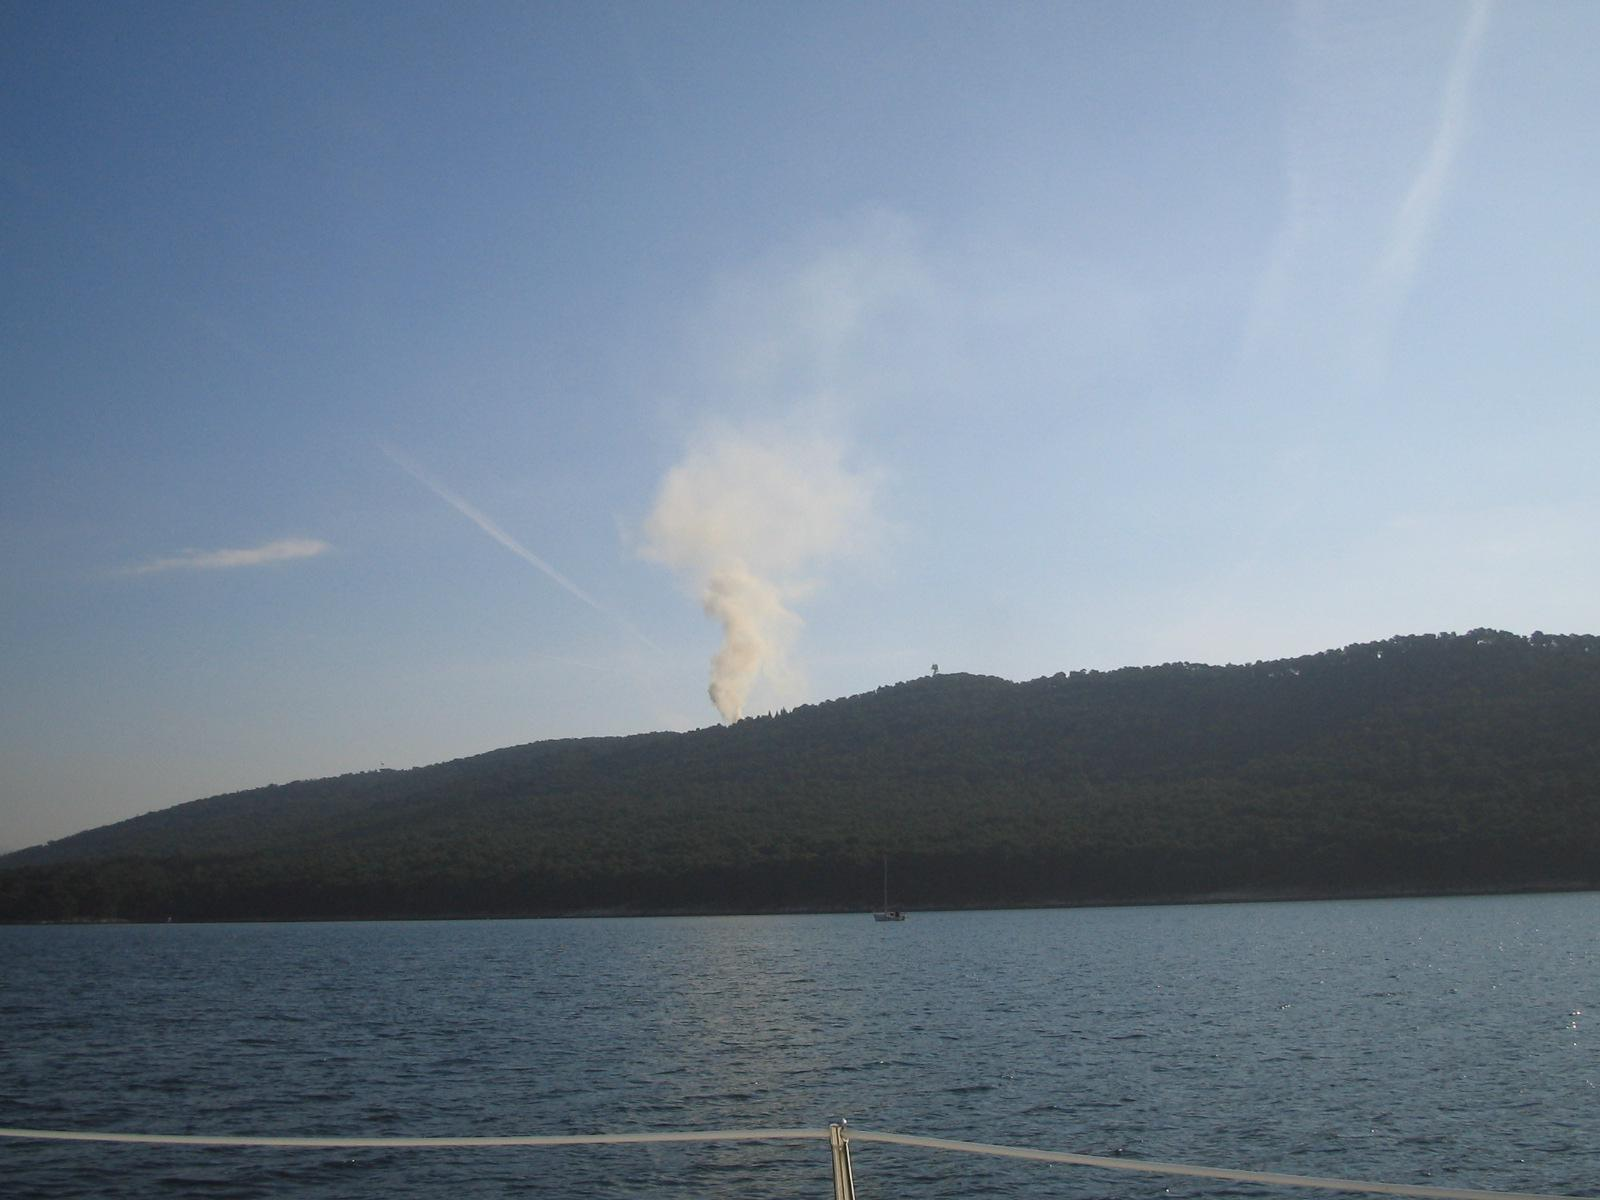Smoke: (643, 255, 849, 741)
